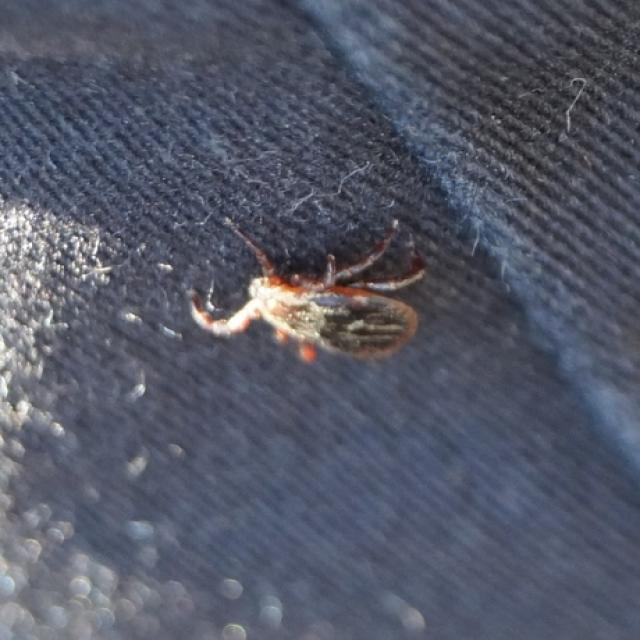Dermacentor Reticulatus-M: (189, 220, 426, 364)
